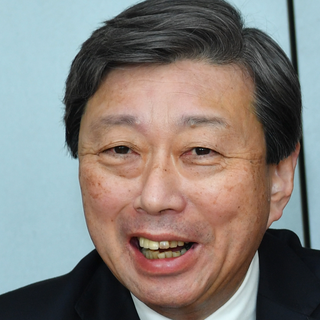eye: (176, 140, 226, 165), (96, 140, 143, 163)
